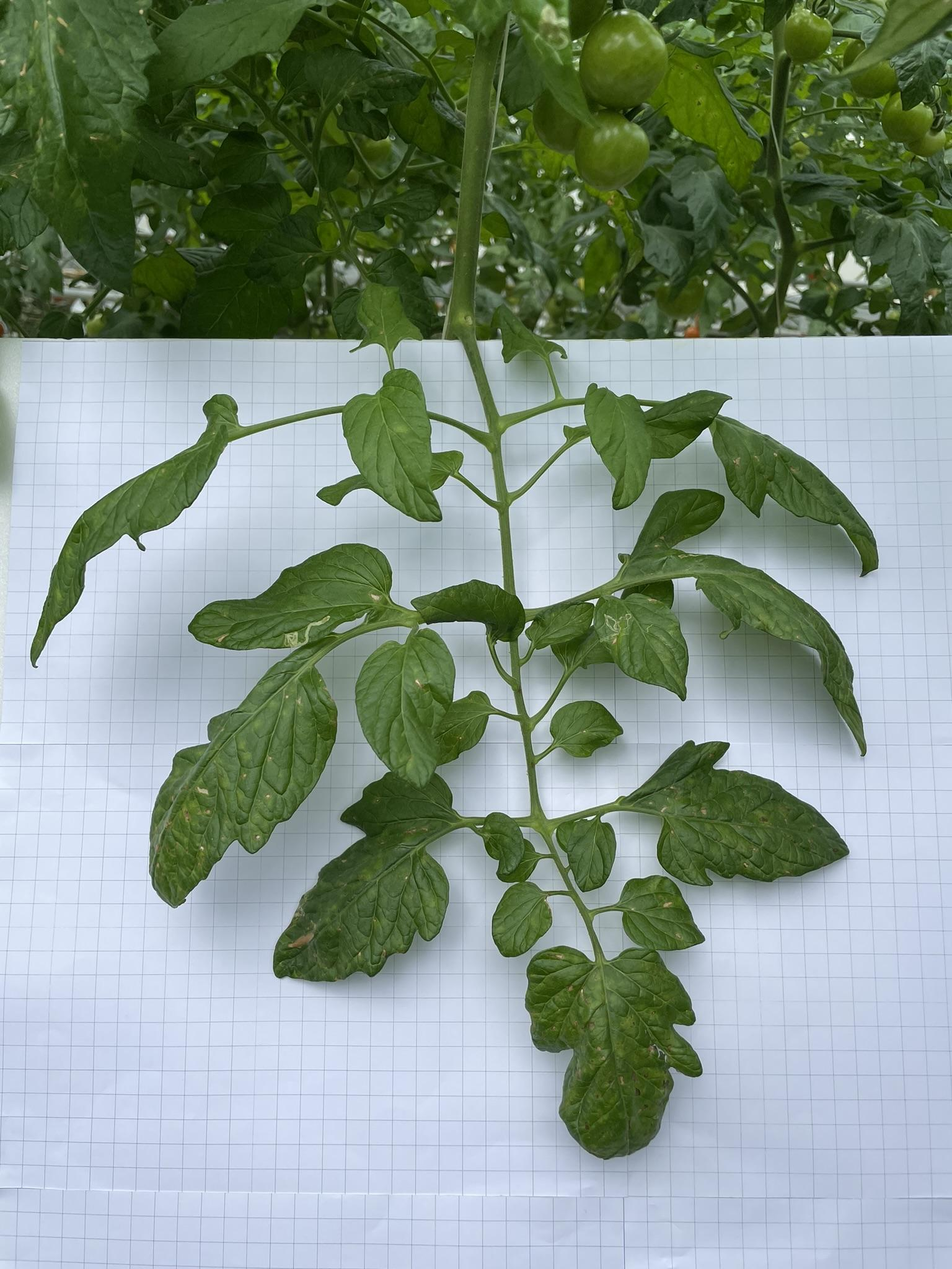Healthy: (30, 392, 238, 669), (149, 0, 330, 94), (584, 383, 652, 511), (410, 578, 527, 643), (202, 182, 293, 245), (212, 128, 269, 184)
Leaf_Miner: (187, 543, 393, 651), (594, 592, 690, 703)
